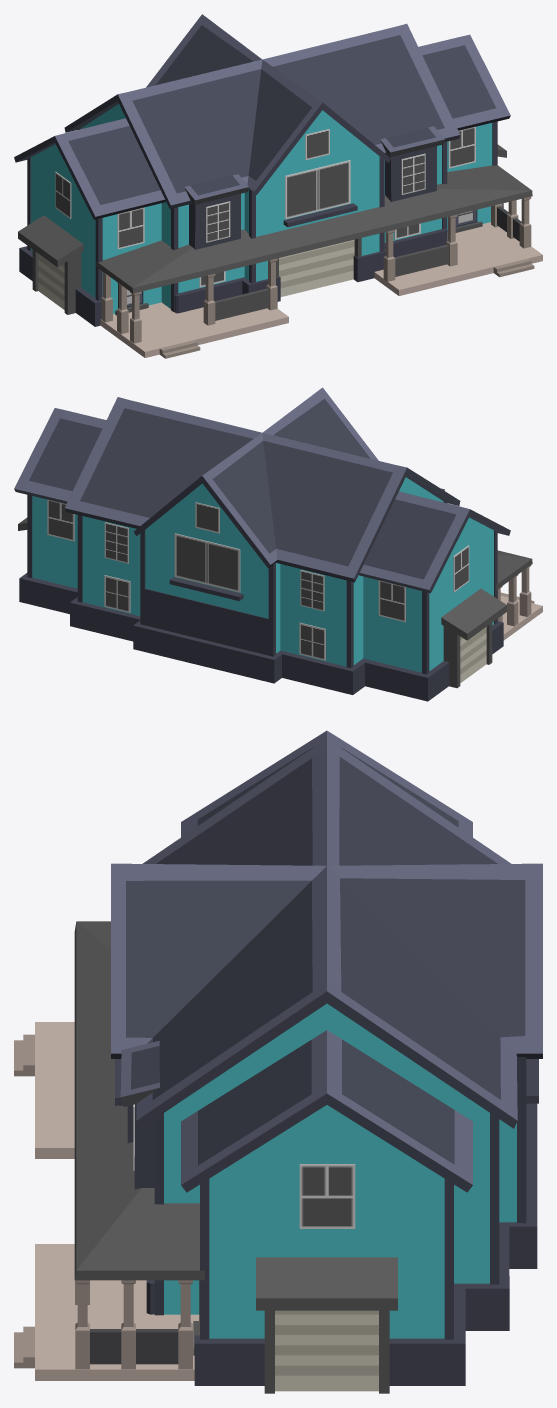
Rendered from house12_color3.fbx.
3 renders of one model, top to bottom at view 1: azimuth 30°, elevation 25°; view 2: azimuth 150°, elevation 25°; view 3: azimuth 270°, elevation 25°, orthographic. The views are drawn at different scales.
Parts seen in each view (by area): view 1: house12_color03; view 2: house12_color03; view 3: house12_color03.
Boxes of the visible parts, left/top/right/bottom form: house12_color03: left=14, top=14, right=542, bottom=358; house12_color03: left=14, top=387, right=542, bottom=701; house12_color03: left=14, top=730, right=542, bottom=1393.
Bounding box in the file's own units: 2315 × 946 × 1317.
